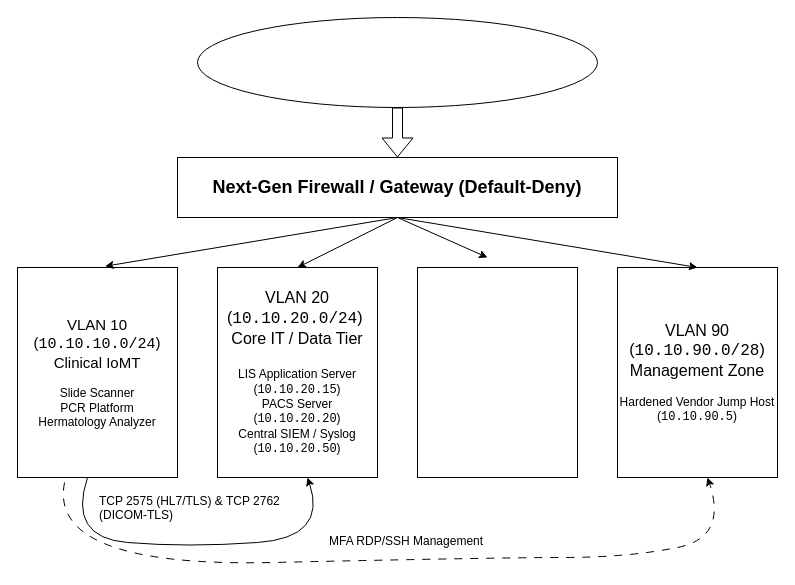
Some shapes in this 795 by 585 pixel diagram are drawn without their labels. The shapes that lost their labels are listed below. From the top down, each one's centre as x and y in pixels, then its label:
[397,62]: Internet (WAN)
[497,372]: VLAN 30 ( 10.10.30.0/24 ) Administrative Tier Staff Laptops/PCs Barcode Printers
